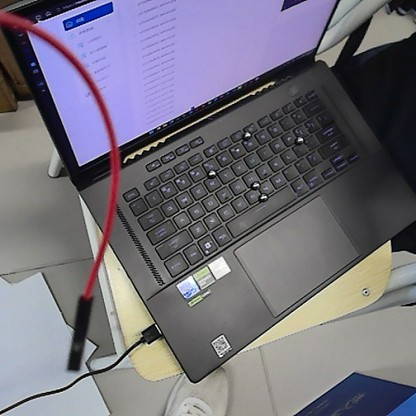ironball: (239, 128, 254, 141), (249, 177, 261, 192), (206, 165, 218, 180), (256, 189, 268, 203), (292, 133, 304, 146)
